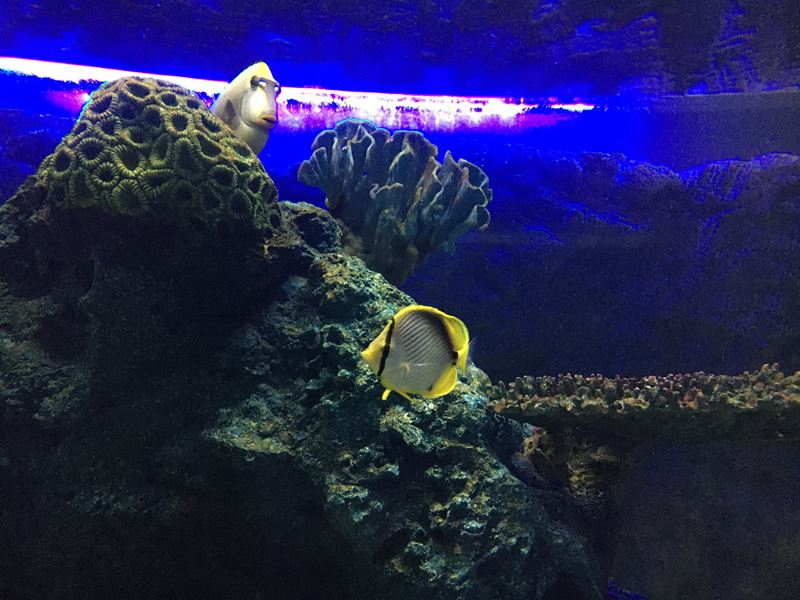Black-backed butterflyfish: (350, 298, 489, 411)
